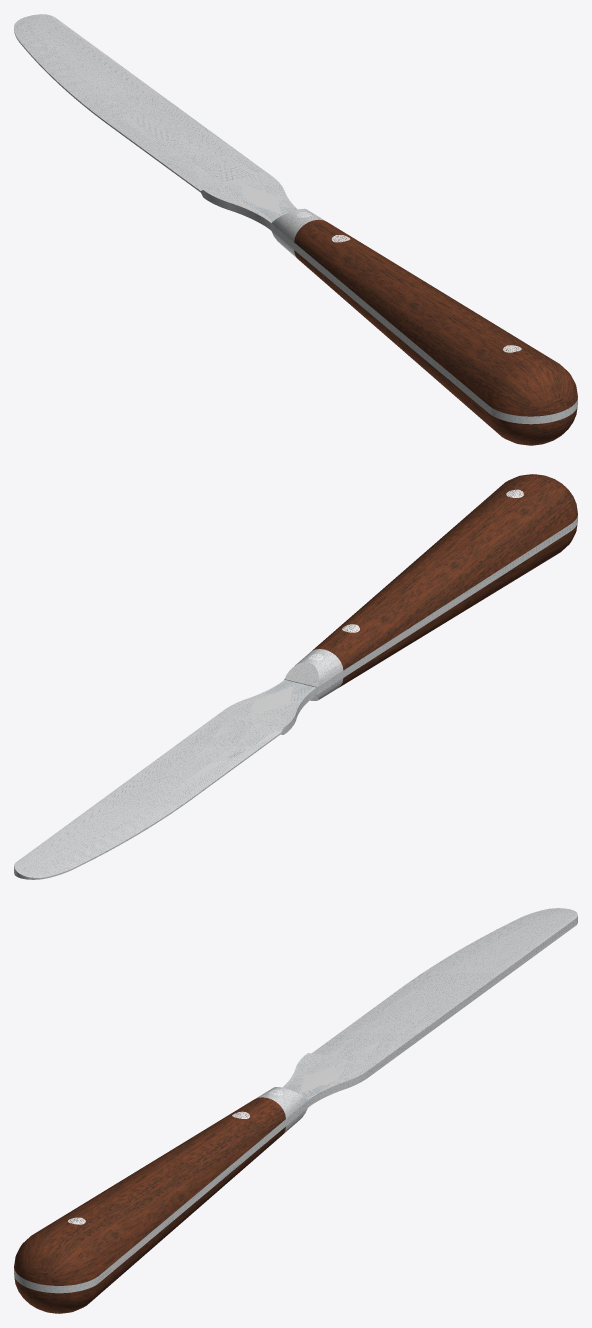
The picture shows the model from 3 angles, top to bottom: view 1: azimuth 30°, elevation 25°; view 2: azimuth 150°, elevation 25°; view 3: azimuth 330°, elevation 25°; orthographic projection. The views are drawn at different scales.
Parts seen in each view (by area): view 1: handle (×3), SketchUp; view 2: handle (×3), SketchUp; view 3: handle (×3), SketchUp.
Part boxes in pixels (left/top/right/bottom): handle (×3): left=271, top=208, right=577, bottom=445; SketchUp: left=14, top=14, right=577, bottom=424; handle (×3): left=284, top=474, right=577, bottom=687; SketchUp: left=14, top=515, right=577, bottom=879; handle (×3): left=14, top=1087, right=307, bottom=1313; SketchUp: left=14, top=908, right=577, bottom=1293.
Size of the model in its own units: 36 by 413 by 33.82.
5 materials, 1 textured.
